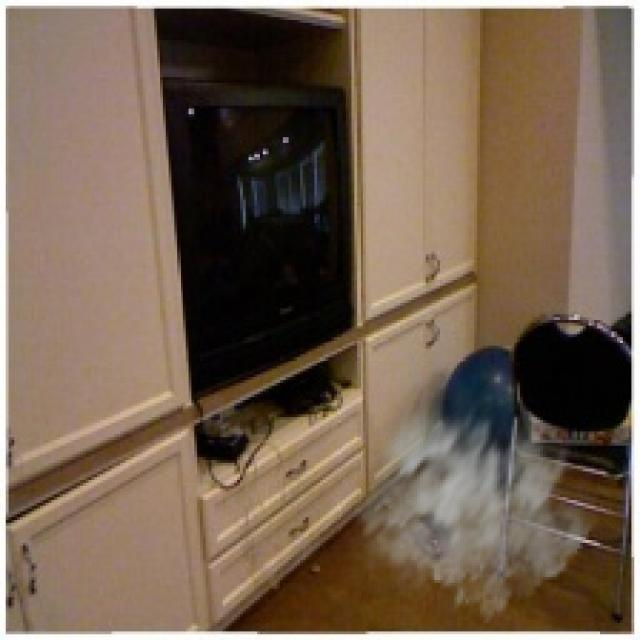Smoke: (343, 366, 606, 626)
